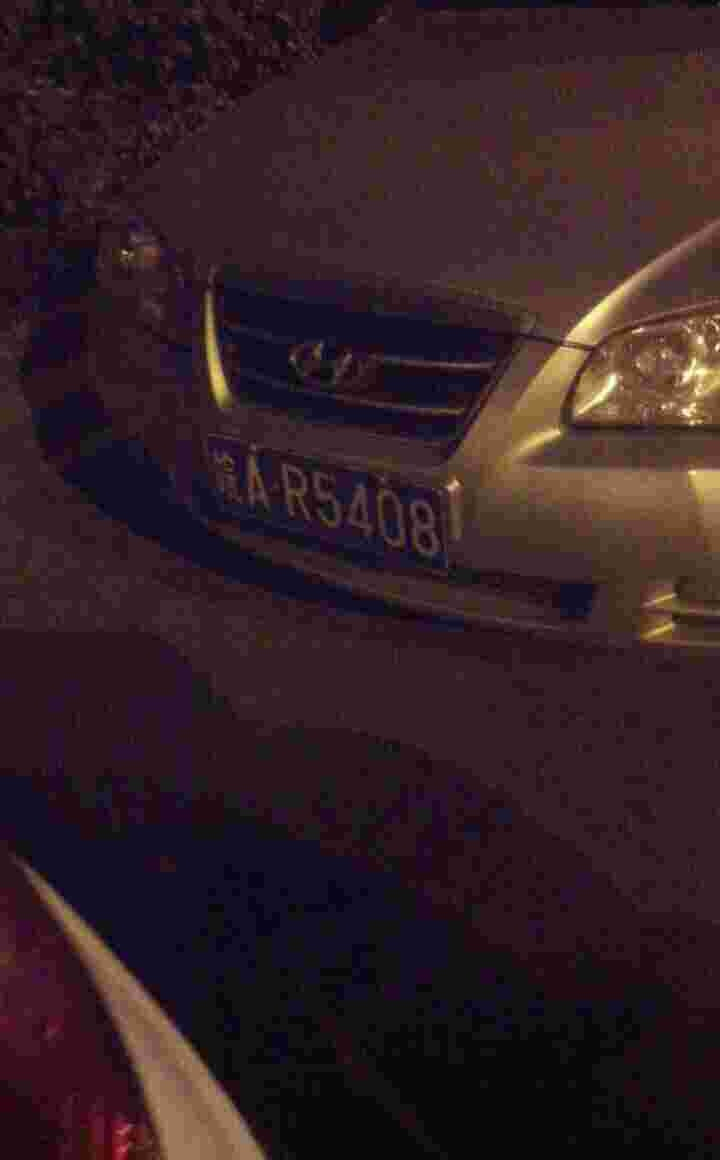license_plate: (178, 450, 463, 555)
